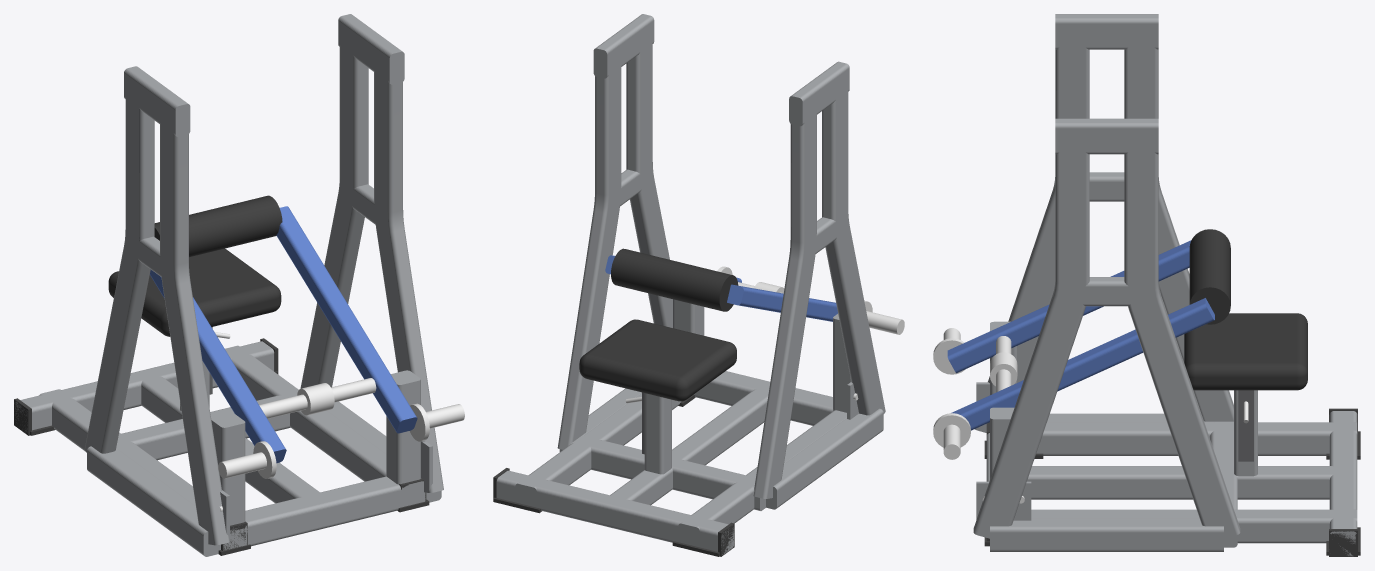
3 renders of one model, left to right at view 1: azimuth 30°, elevation 25°; view 2: azimuth 150°, elevation 25°; view 3: azimuth 270°, elevation 25°, orthographic. The views are drawn at different scales.
Parts seen in each view (by area): view 1: side_leg_tube (×4), base, frame, lever_bar (×2), lever_support, seat_pad, side_cap (×2), lever_roller, lever_tail (×2), lever_horn (×2), side_link, lever_axle (+1 smaller); view 2: side_leg_tube (×4), base, seat_pad, frame, lever_support, lever_roller, side_cap (×2), side_link, seat_post, lever_bar, lever_horn; view 3: side_leg_tube (×4), base, frame, seat_pad, side_cap (×2), lever_bar (×2), lever_roller, lever_tail (×2), lever_horn (×2), side_link, lever_support, seat_adjuster (+5 smaller).
Boxes of the visible parts, left/top/right/bottom form: side_leg_tube (×4): left=84, top=46, right=443, bottom=545; base: left=14, top=341, right=425, bottom=550; frame: left=87, top=184, right=441, bottom=556; lever_bar (×2): left=150, top=206, right=390, bottom=417; lever_support: left=211, top=370, right=420, bottom=525; seat_pad: left=108, top=248, right=281, bottom=336; side_cap (×2): left=124, top=14, right=404, bottom=137; lever_roller: left=154, top=195, right=282, bottom=257; lever_tail (×2): left=241, top=375, right=417, bottom=463; lever_horn (×2): left=218, top=403, right=464, bottom=478; side_link: left=117, top=391, right=297, bottom=460; lever_axle: left=259, top=378, right=376, bottom=418; side_leg_tube (×4): left=557, top=37, right=885, bottom=498; base: left=496, top=371, right=846, bottom=554; seat_pad: left=579, top=319, right=736, bottom=401; frame: left=559, top=169, right=883, bottom=509; lever_support: left=673, top=299, right=851, bottom=425; lever_roller: left=611, top=248, right=738, bottom=311; side_cap (×2): left=593, top=14, right=849, bottom=126; side_link: left=570, top=436, right=765, bottom=510; seat_post: left=644, top=393, right=671, bottom=474; lever_bar: left=727, top=284, right=837, bottom=321; lever_horn: left=864, top=300, right=904, bottom=334; side_leg_tube (×4): left=973, top=46, right=1240, bottom=538; base: left=986, top=411, right=1357, bottom=556; frame: left=990, top=172, right=1223, bottom=551; seat_pad: left=1184, top=313, right=1307, bottom=390; side_cap (×2): left=1055, top=14, right=1158, bottom=154; lever_bar (×2): left=999, top=240, right=1214, bottom=407; lever_roller: left=1189, top=229, right=1230, bottom=324; lever_tail (×2): left=947, top=327, right=1003, bottom=430; lever_horn (×2): left=933, top=328, right=970, bottom=459; side_link: left=1210, top=421, right=1237, bottom=547; lever_support: left=990, top=321, right=1017, bottom=479; seat_adjuster: left=1238, top=390, right=1253, bottom=461.
Bounding box in the file's own units: 0.84 × 1.37 × 1.24.
